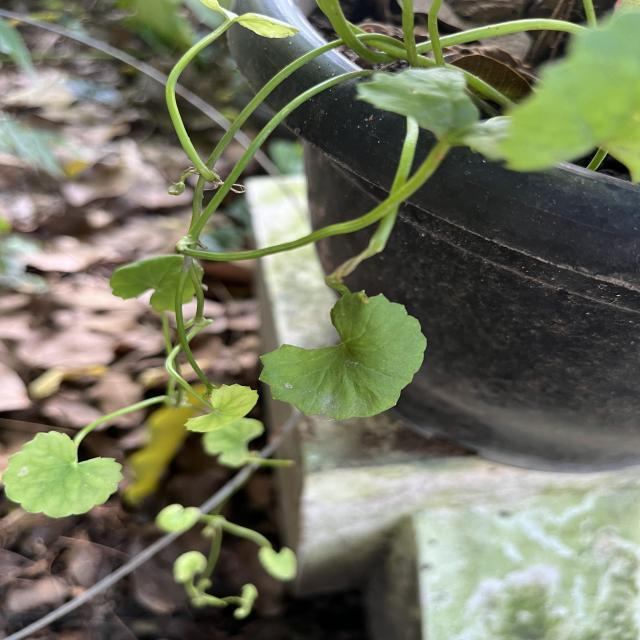Centella asiatica: (256, 287, 429, 422), (182, 382, 261, 436)
